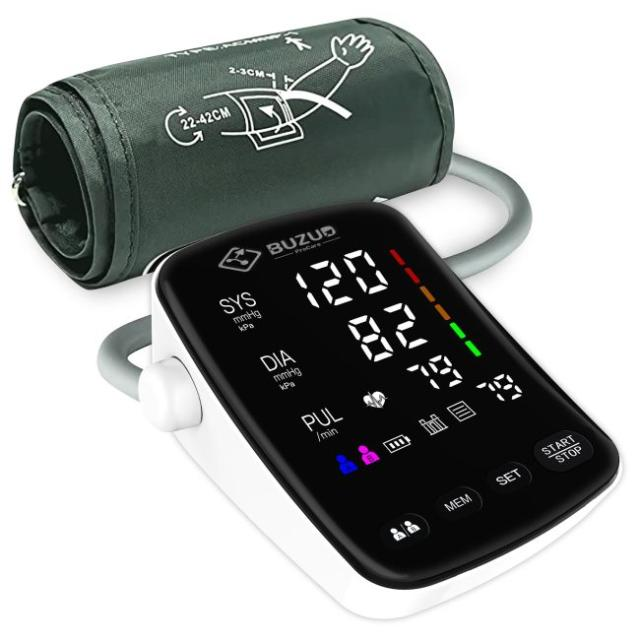dia: (337, 285, 439, 372)
pul: (398, 340, 474, 405)
ssd: (255, 212, 478, 452)
sys: (286, 237, 394, 316)
